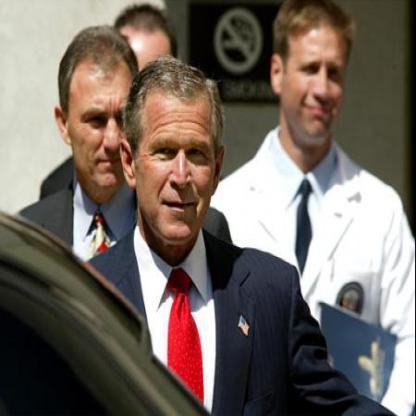face: (134, 64, 220, 244), (69, 37, 145, 193), (283, 1, 352, 144)
